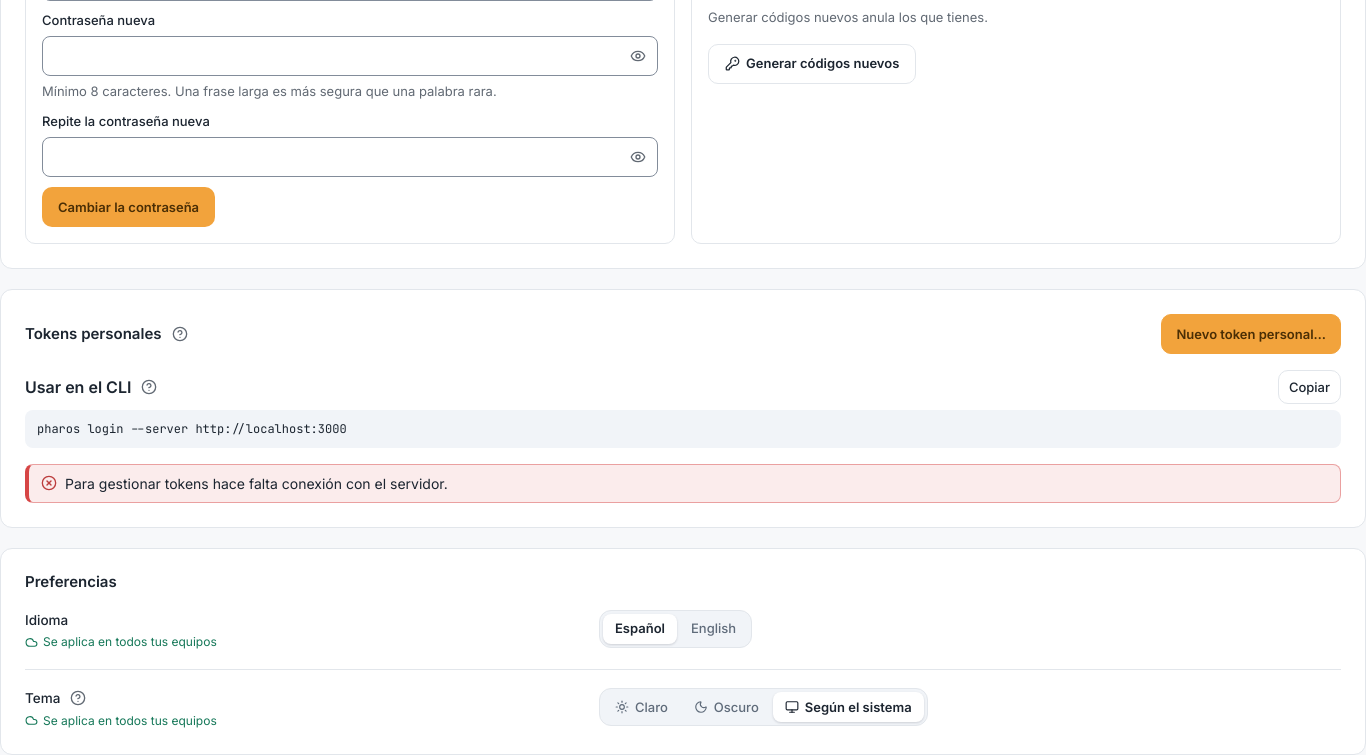
Test: profile page › changes language and theme from Preferencias
(page scrolled)
Click the radio button labelled "Oscuro" at (726, 707), box [682,692,771,722]
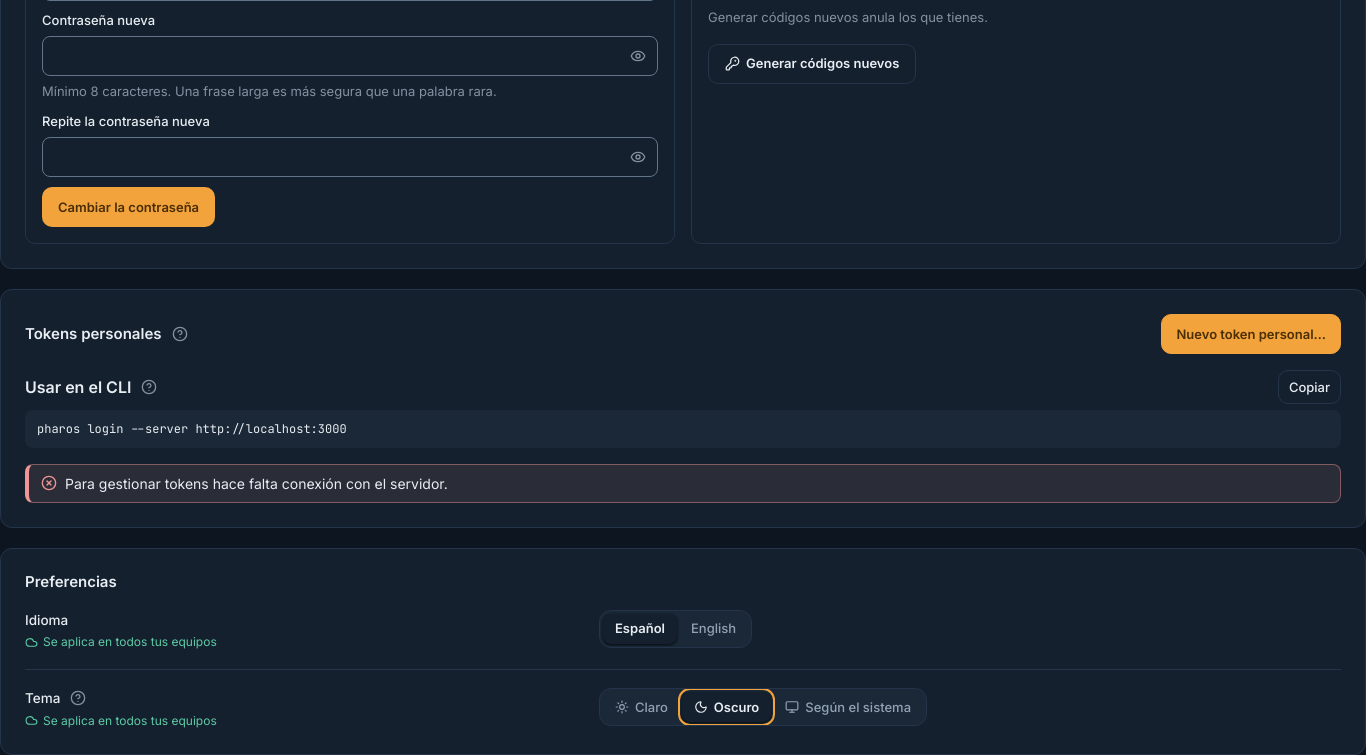
Expected: the radio button labelled "Oscuro" is checked, [682,692,771,722]
Click the radio button labelled "English" at (714, 629), box [679,614,748,644]
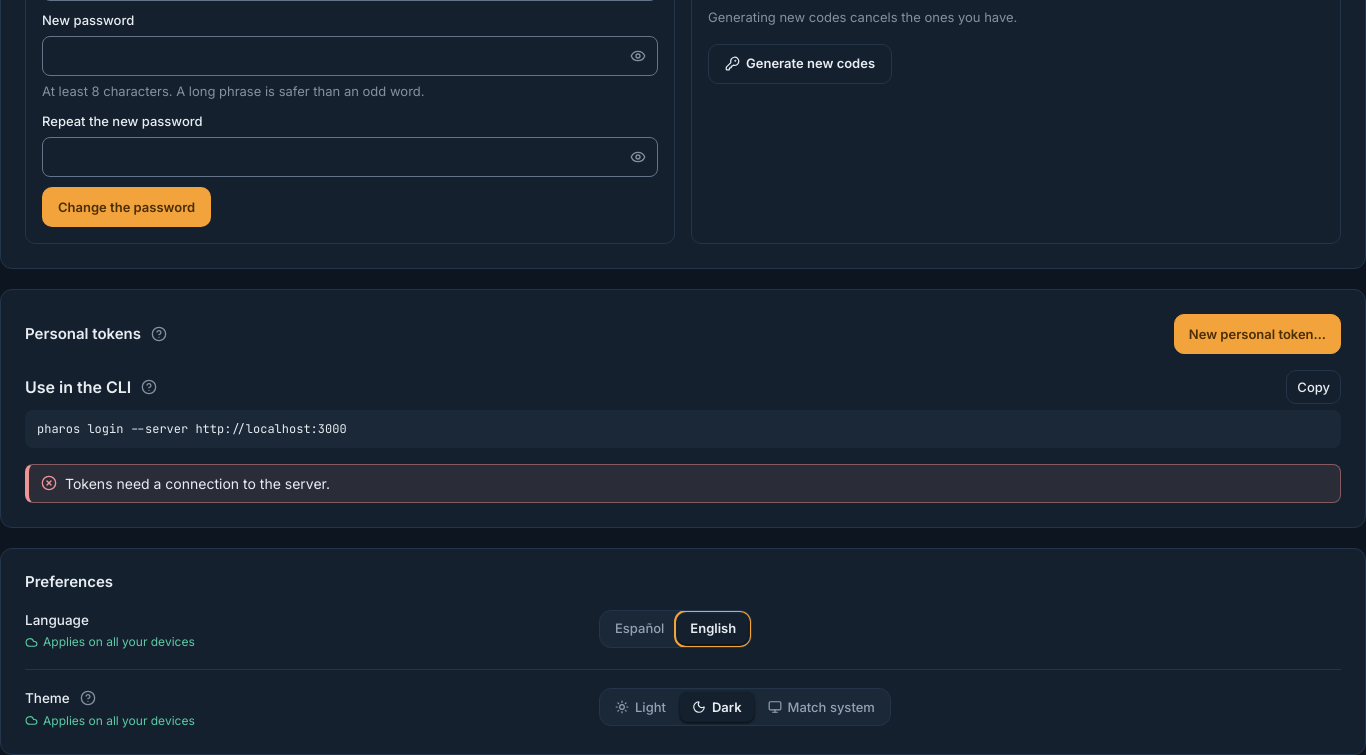
Expected: the heading "Preferences" is shown, [25,572,113,591]
